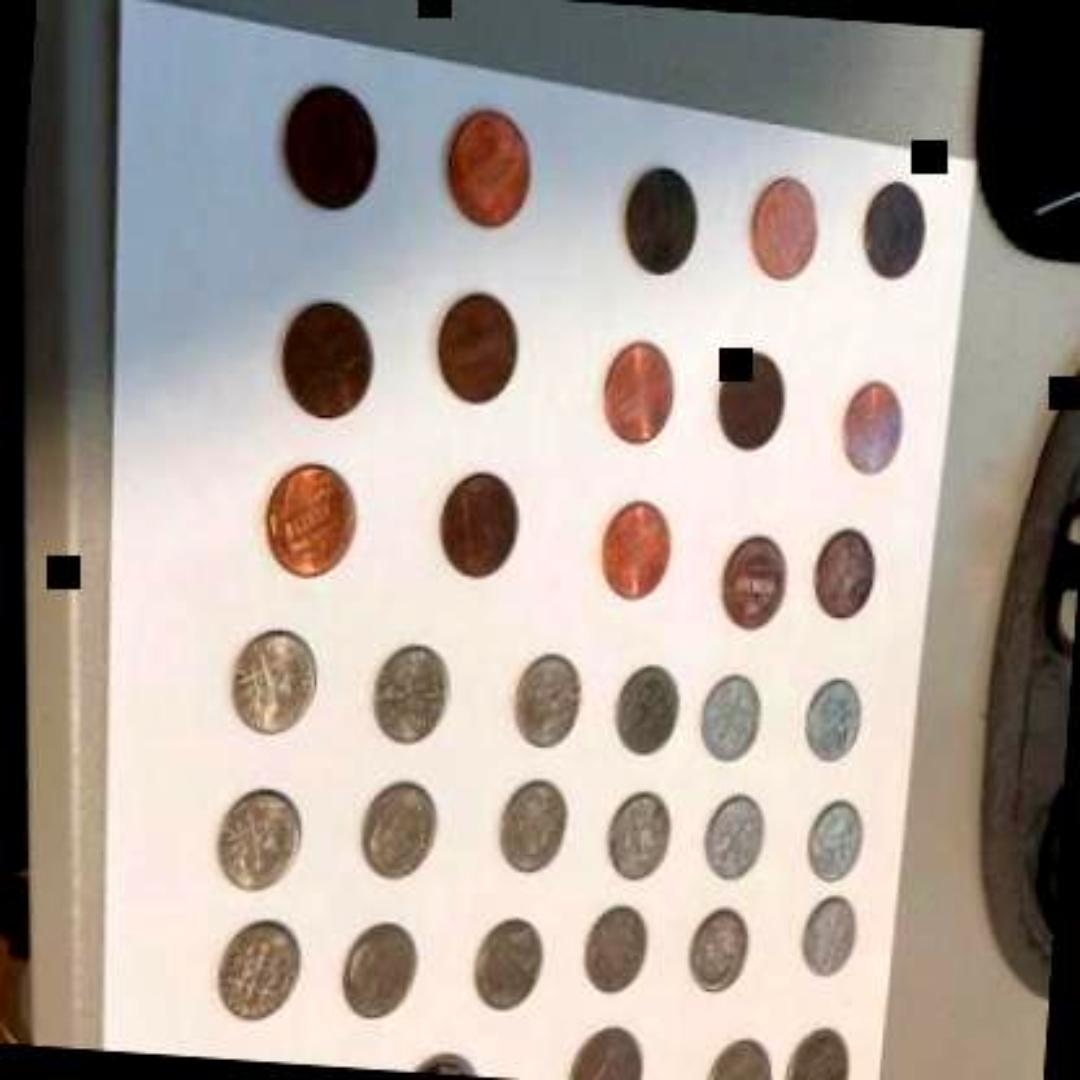Dime: (214, 787, 310, 901), (231, 628, 327, 738), (219, 906, 309, 1022), (337, 916, 427, 1026), (357, 777, 442, 886), (372, 645, 457, 748), (510, 650, 590, 754), (694, 671, 772, 769), (581, 901, 659, 999), (474, 915, 552, 1013), (498, 780, 574, 878), (608, 788, 678, 886), (617, 664, 687, 758), (702, 793, 770, 886), (804, 676, 868, 768), (807, 800, 871, 888), (692, 908, 752, 998), (802, 895, 862, 975)
Nickel: (564, 1020, 647, 1080), (784, 1022, 860, 1080), (702, 1036, 776, 1080)
Penny: (278, 81, 384, 221), (278, 287, 384, 424), (262, 462, 368, 580), (432, 282, 528, 412), (441, 112, 537, 234), (618, 161, 704, 285), (440, 469, 526, 583), (598, 338, 684, 448), (715, 344, 795, 458), (596, 497, 676, 606), (745, 178, 825, 286), (858, 176, 930, 288), (838, 378, 910, 481), (718, 536, 788, 634), (814, 532, 878, 624)
